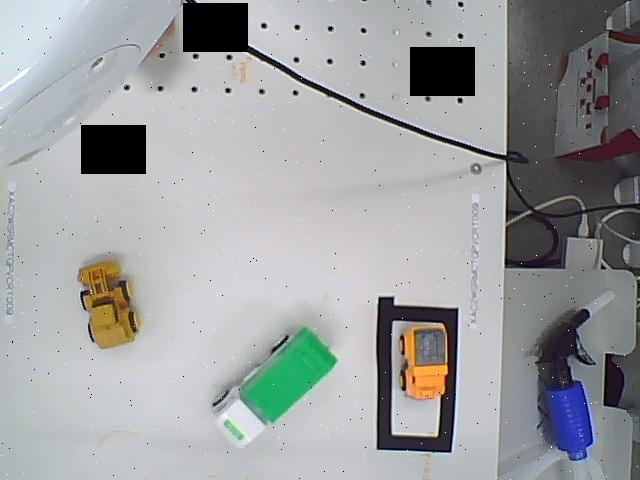Diesel car: (395, 316, 460, 412)
Electric car: (202, 317, 343, 451)
Gasoline car: (72, 255, 142, 347)
